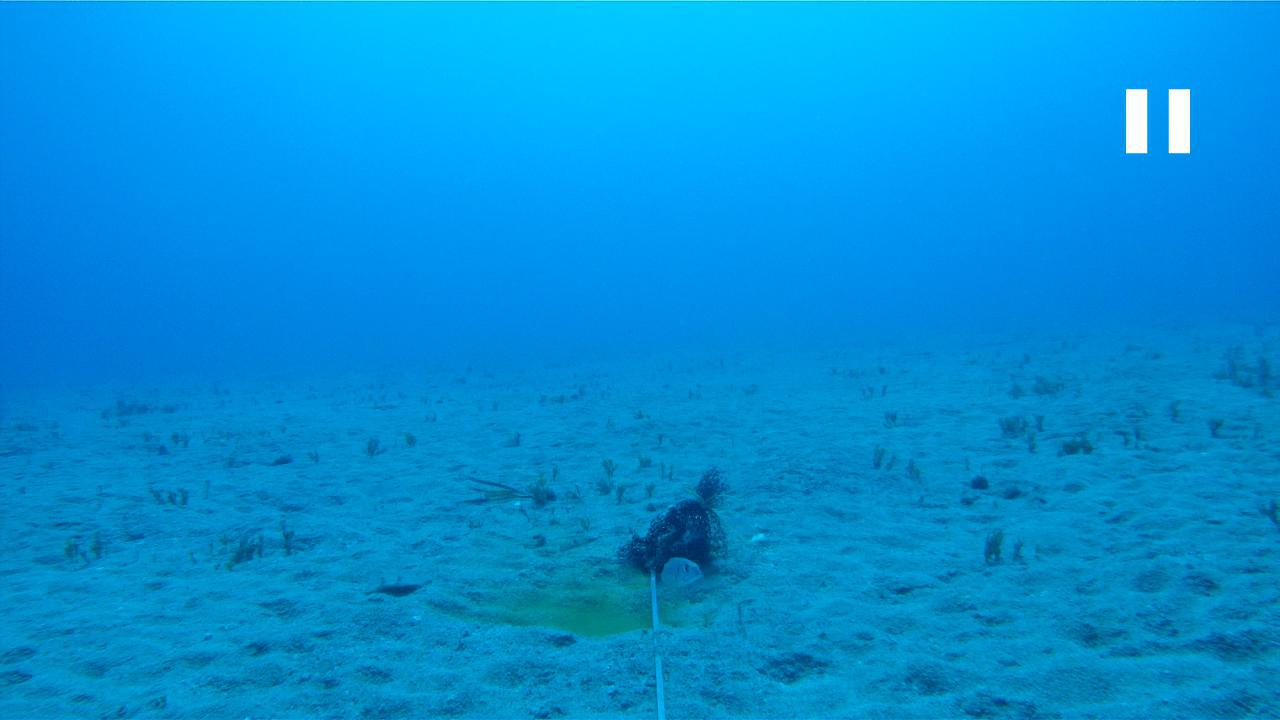bothus: (367, 564, 432, 597)
